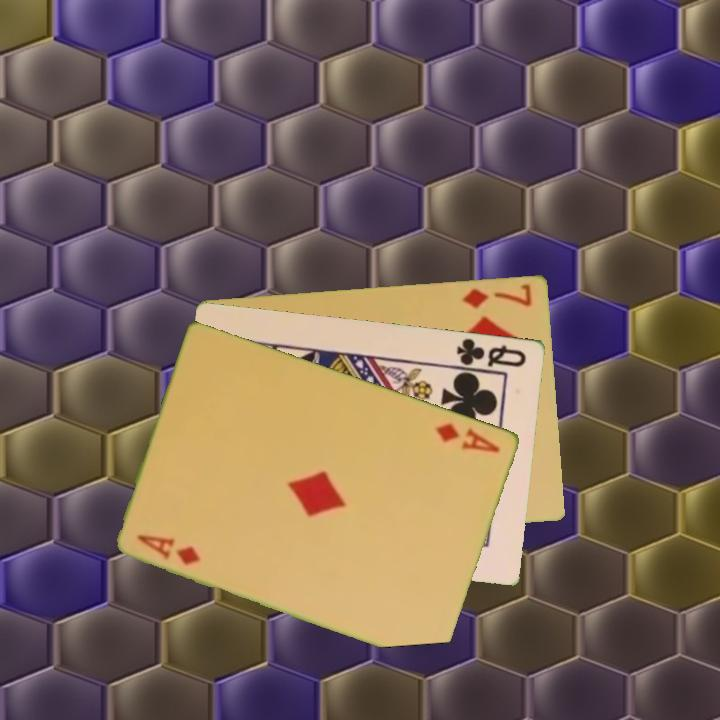7d: (459, 280, 535, 311)
Ad: (134, 530, 203, 568), (432, 419, 504, 455)
Qc: (449, 334, 529, 374)
